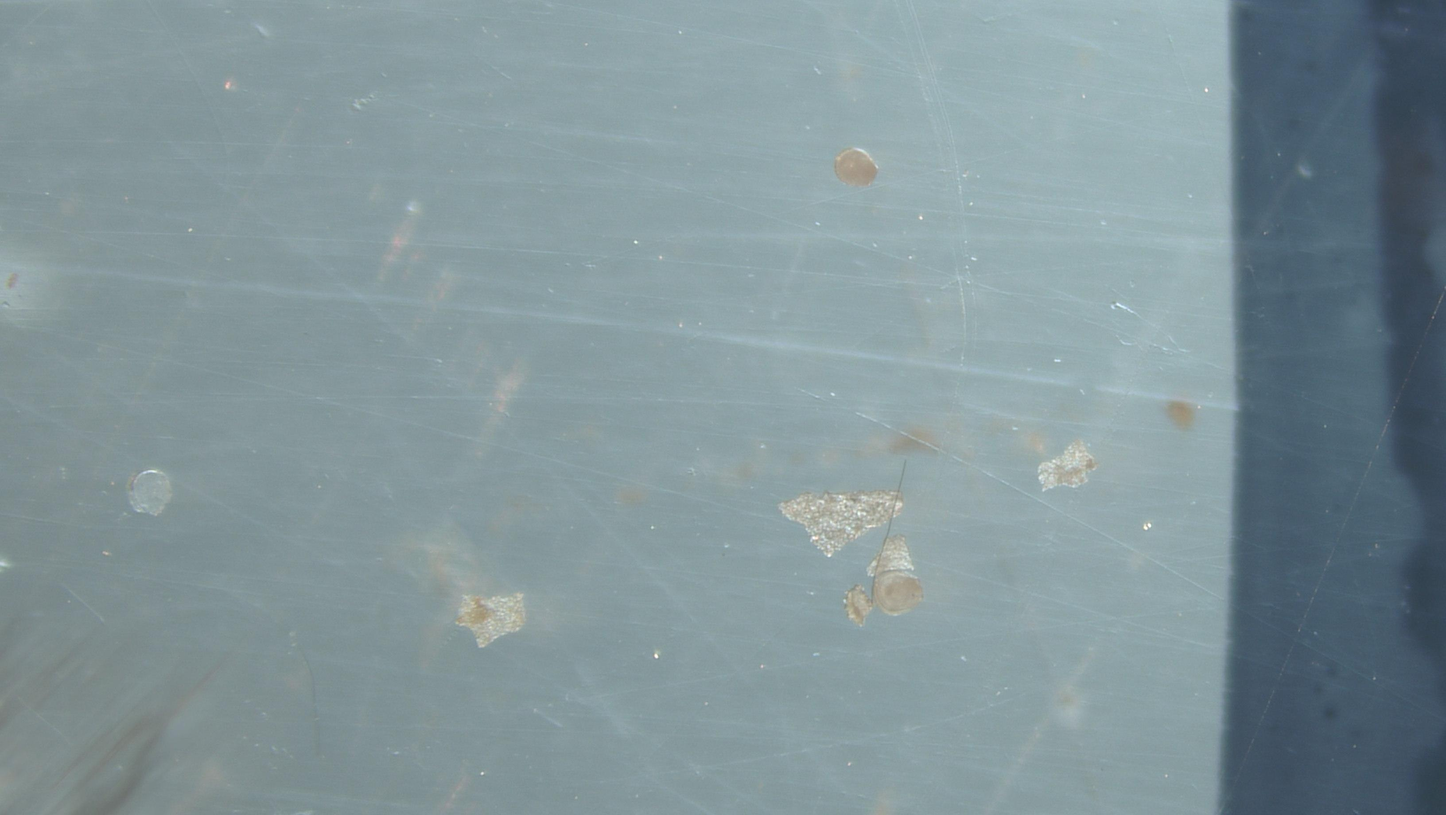dead: (127, 470, 173, 516)
live: (872, 571, 924, 615), (834, 148, 878, 187)
